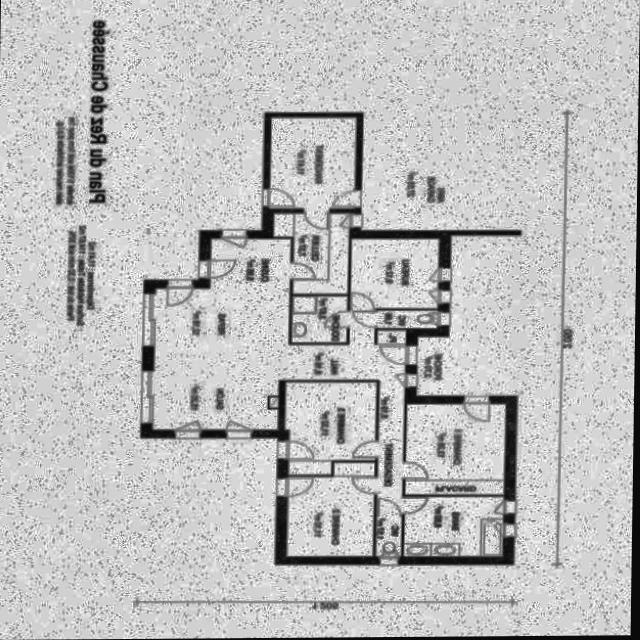room: (136, 227, 428, 518), (403, 395, 506, 496), (276, 462, 377, 557), (277, 382, 378, 476), (262, 118, 361, 209), (272, 209, 349, 295), (349, 239, 439, 311), (402, 497, 504, 557), (291, 296, 350, 343), (375, 310, 437, 329), (375, 515, 402, 558)
